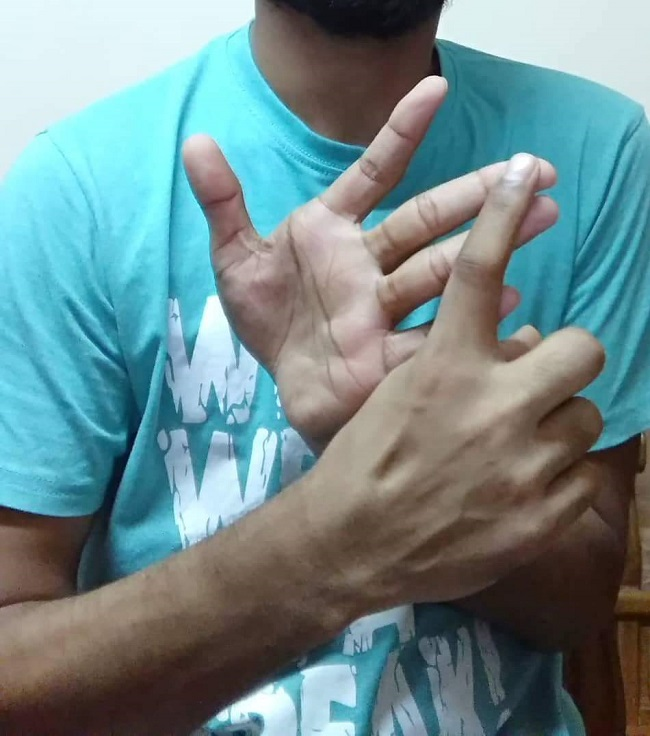u: (183, 76, 607, 485)
